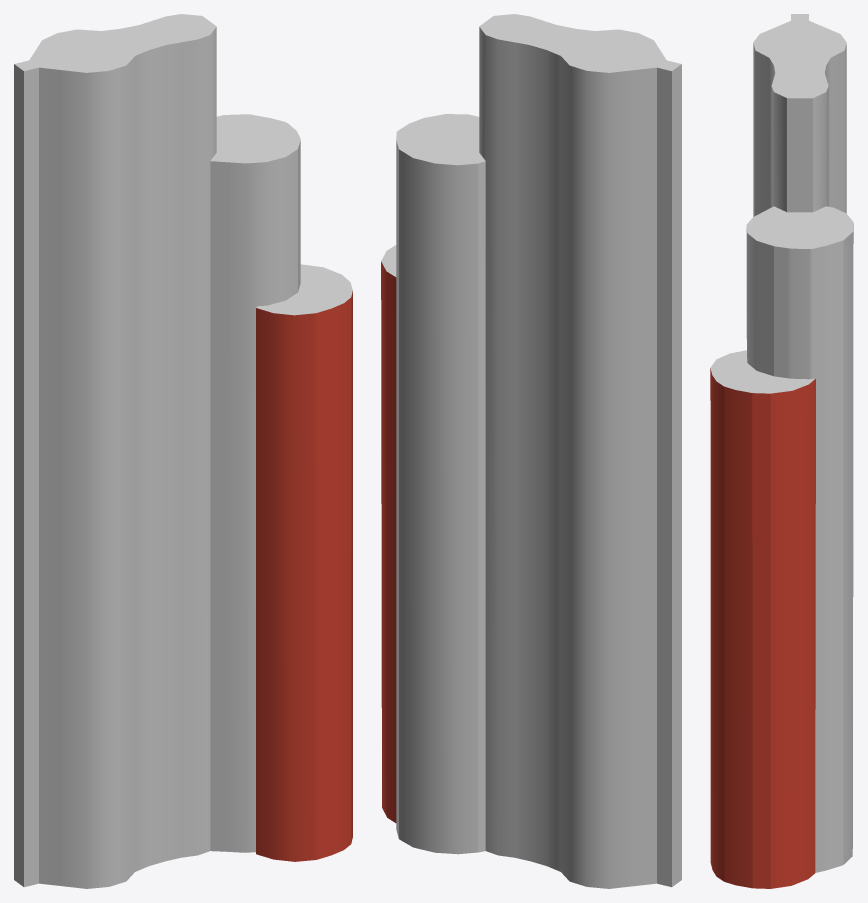
Rendered from Building_5_Red.glb.
3 views of the same model, side by side, from view 1: azimuth 30°, elevation 25°; view 2: azimuth 150°, elevation 25°; view 3: azimuth 270°, elevation 25° (orthographic). The views are drawn at different scales.
Parts seen in each view (by area): view 1: polySurface19; view 2: polySurface19; view 3: polySurface19.
Boxes of the visible parts, <box> form: polySurface19: <box>14,14,352,888</box>; polySurface19: <box>381,14,681,888</box>; polySurface19: <box>710,14,853,888</box>.
Bounding box in the file's own units: 619 × 1576 × 276.
